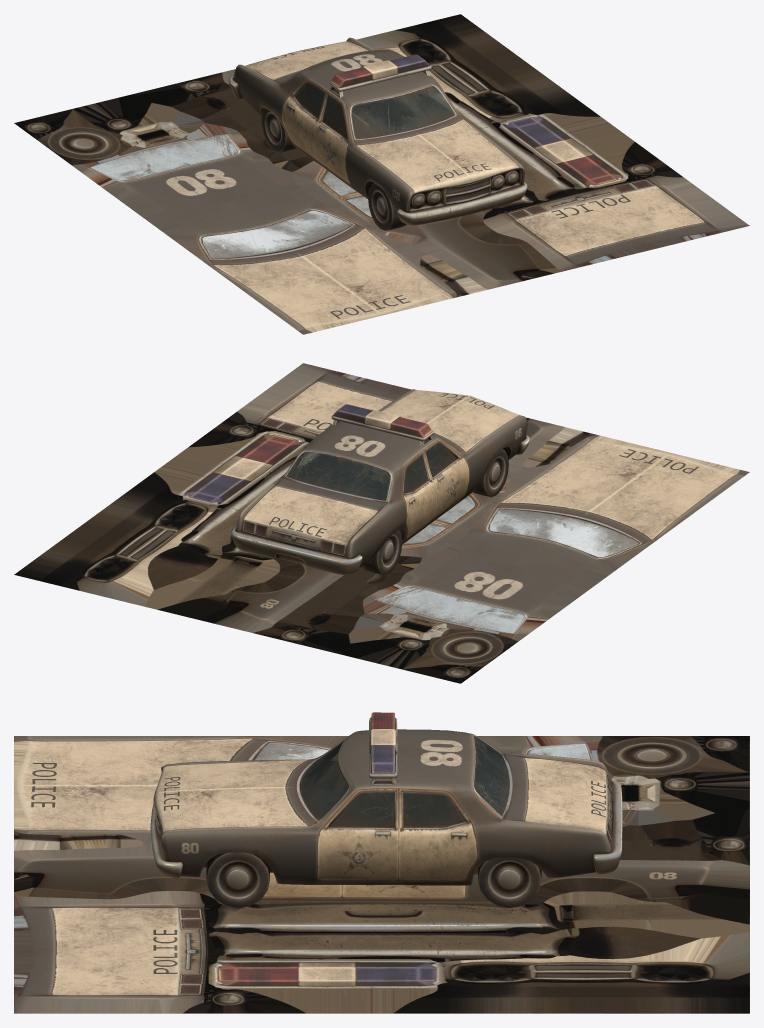
3 views of the same model, one above another, from view 1: azimuth 30°, elevation 25°; view 2: azimuth 150°, elevation 25°; view 3: azimuth 270°, elevation 25° (orthographic). The views are drawn at different scales.
Parts seen in each view (by area): view 1: Plane001, Object001_Material #278_0, Object002_Material #278_0; view 2: Plane001, Object001_Material #278_0, Object002_Material #278_0; view 3: Plane001, Object001_Material #278_0, Object002_Material #278_0.
Boxes of the visible parts, x1,y1,x2,y2 form: Plane001: (14, 14, 749, 334); Object001_Material #278_0: (228, 37, 527, 230); Object002_Material #278_0: (295, 84, 454, 138); Plane001: (14, 363, 749, 683); Object001_Material #278_0: (231, 389, 529, 575); Object002_Material #278_0: (286, 443, 456, 500); Plane001: (14, 736, 749, 1013); Object001_Material #278_0: (150, 712, 622, 908); Object002_Material #278_0: (301, 736, 509, 826).
Size of the model in its own units: 347 by 80.21 by 389.
1 material, 1 textured.
